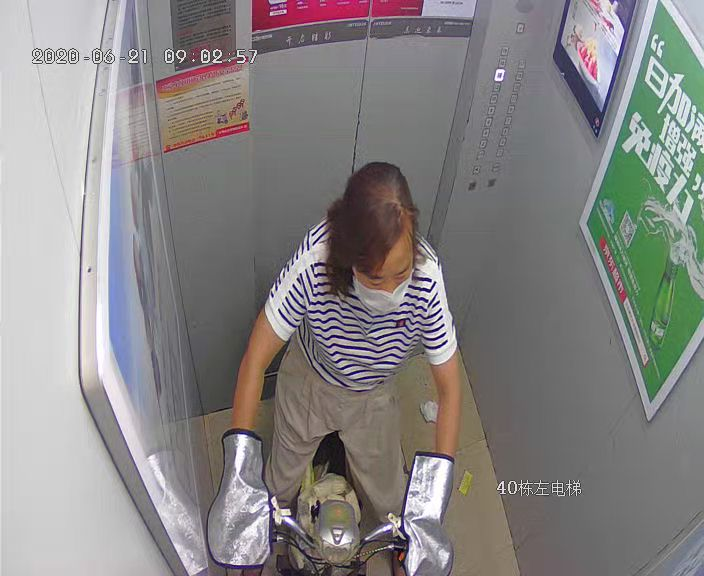Electric-bicycle: (210, 404, 451, 576)
